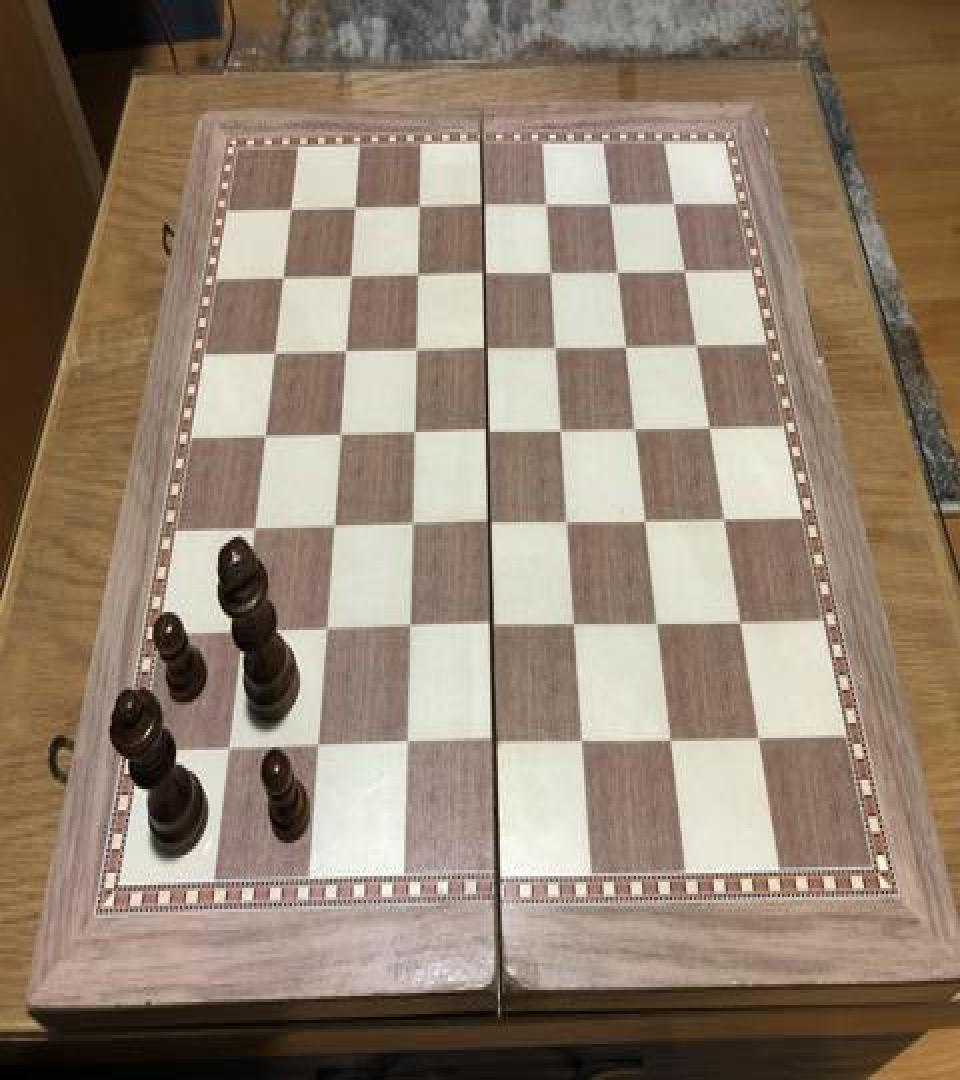xcorner: (483, 727, 507, 764), (215, 733, 239, 770), (663, 183, 687, 219), (599, 183, 623, 219), (536, 184, 560, 220), (472, 186, 496, 222), (344, 189, 368, 225), (280, 189, 304, 225), (674, 250, 698, 286), (607, 252, 631, 288), (540, 252, 564, 288), (473, 254, 497, 290), (406, 255, 430, 291), (339, 256, 363, 292), (272, 258, 296, 294), (686, 324, 710, 360), (616, 326, 640, 362), (545, 327, 569, 363), (404, 330, 428, 366), (334, 332, 358, 368), (263, 333, 287, 369), (699, 408, 723, 444), (625, 410, 649, 446), (551, 411, 575, 447), (402, 414, 426, 450), (328, 416, 352, 452), (253, 417, 277, 453), (715, 501, 739, 537), (636, 502, 660, 538), (557, 504, 581, 540), (479, 506, 503, 542), (400, 507, 424, 543), (321, 508, 345, 544), (242, 510, 266, 546), (731, 604, 755, 640), (648, 606, 672, 642), (564, 608, 588, 644), (481, 609, 505, 645), (397, 612, 421, 648), (313, 614, 337, 650), (229, 615, 253, 651), (751, 723, 775, 759), (662, 724, 686, 760), (573, 726, 597, 762), (394, 730, 418, 766), (305, 732, 329, 768), (408, 188, 432, 223), (475, 329, 499, 364), (477, 413, 501, 448)
